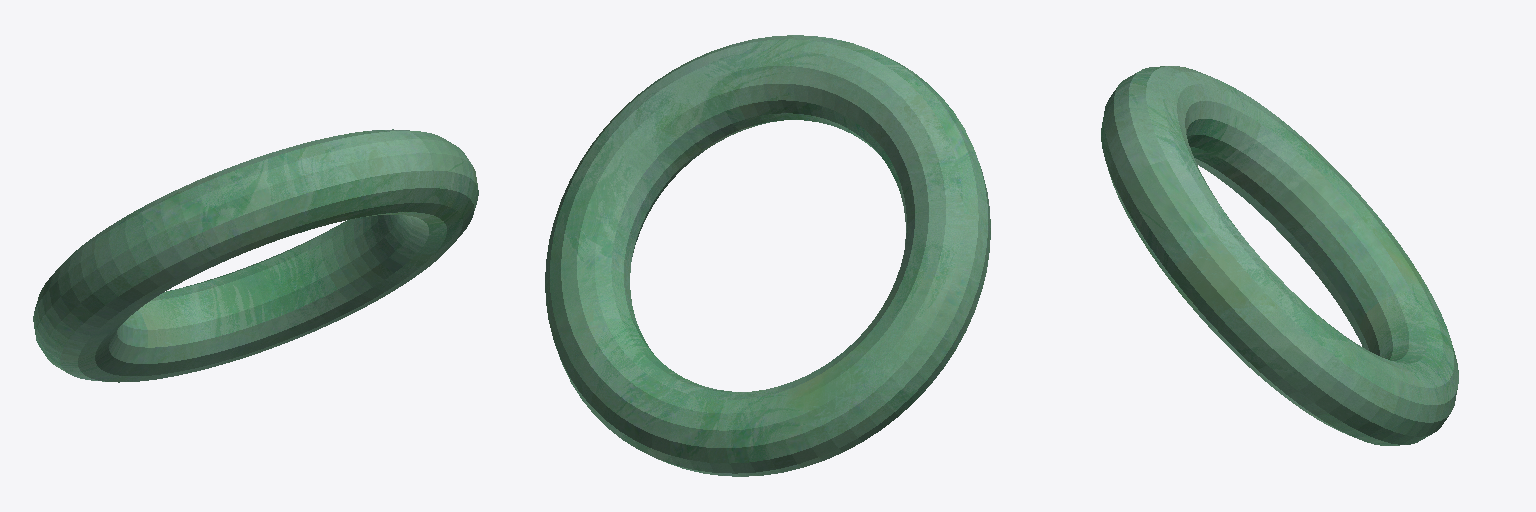
3 views of the same model, side by side, from view 1: azimuth 30°, elevation 25°; view 2: azimuth 150°, elevation 25°; view 3: azimuth 270°, elevation 25° (orthographic).
Parts seen in each view (by area): view 1: Torus; view 2: Torus; view 3: Torus.
Part boxes in pixels (x1,y1,x2,y2): Torus: (33, 129, 478, 382); Torus: (545, 35, 990, 476); Torus: (1101, 66, 1458, 445).
Size of the model in its own units: 3.67 by 2.78 by 2.78.
1 materials, 1 textured.